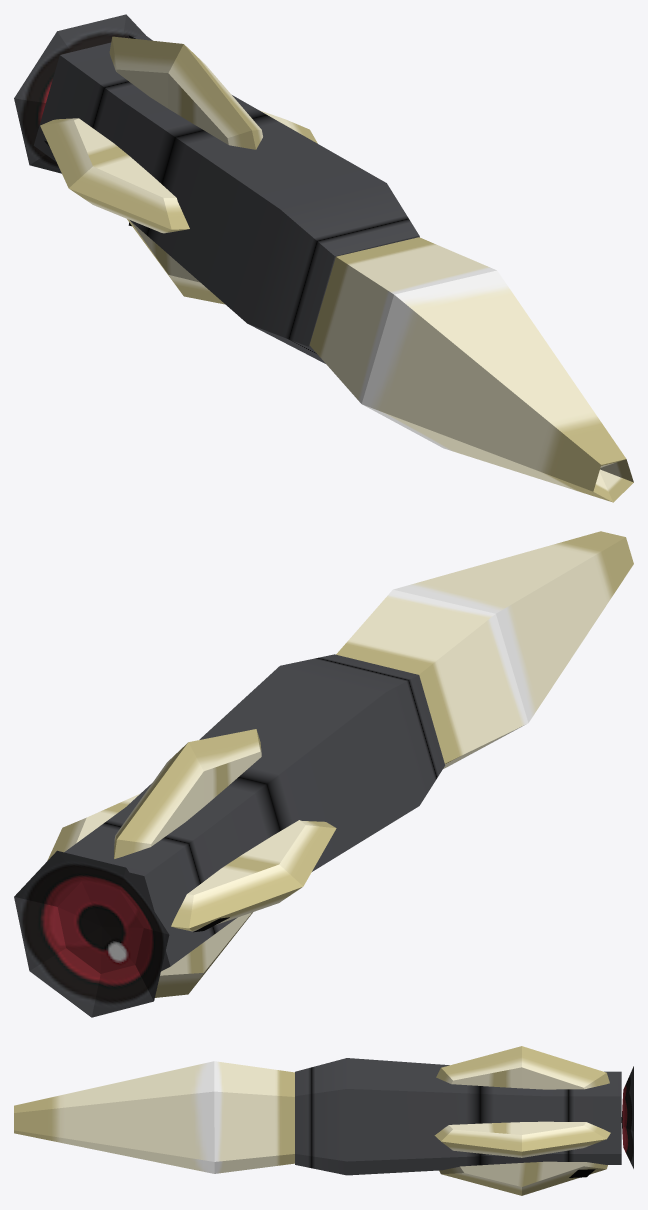
File: Missile.fbx
3 views of the same model, one above another, from view 1: azimuth 30°, elevation 25°; view 2: azimuth 150°, elevation 25°; view 3: azimuth 270°, elevation 25° (orthographic). The views are drawn at different scales.
Parts seen in each view (by area): view 1: polySurface9; view 2: polySurface9; view 3: polySurface9.
Part boxes in pixels (x1,y1,x2,y2): polySurface9: (14, 14, 633, 502); polySurface9: (14, 531, 633, 1017); polySurface9: (14, 1046, 633, 1195).
Bounding box in the file's own units: 8.06 × 8.06 × 30.23.
